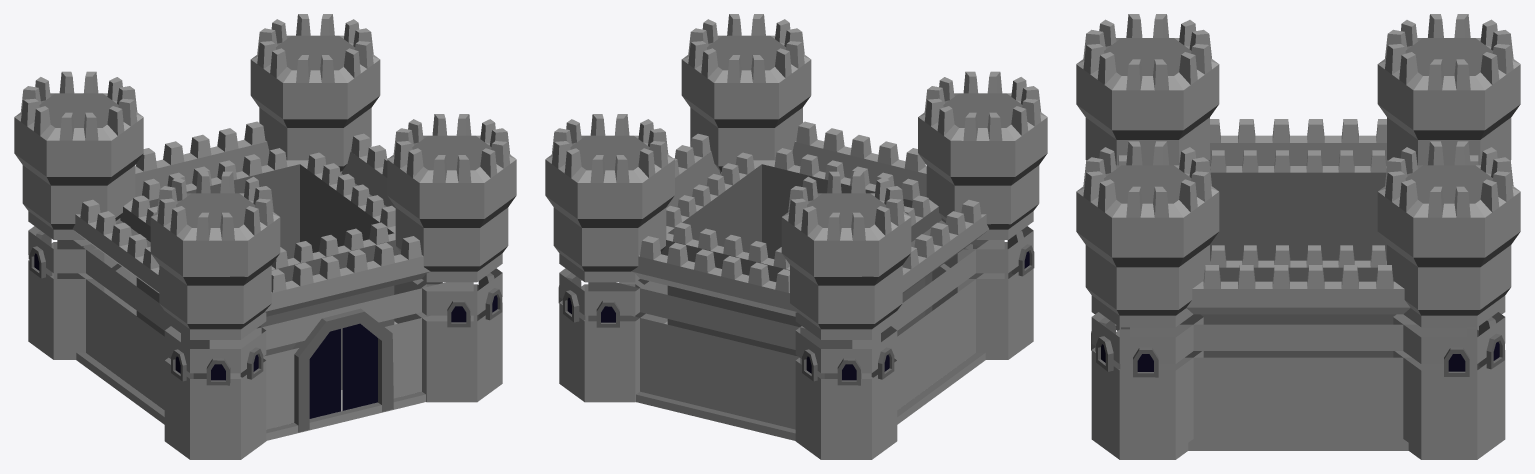
The model's file is Low_Poly_Castle.glb.
3 renders of one model, left to right at view 1: azimuth 30°, elevation 25°; view 2: azimuth 150°, elevation 25°; view 3: azimuth 270°, elevation 25°, orthographic. The views are drawn at different scales.
Parts seen in each view (by area): view 1: main_mat_grey01_0, tower01_mat_grey01_0, tower02_mat_grey01_0, tower04_mat_grey01_0, main_mat_grey03_0, tower03_mat_grey01_0, main_mat_grey02_0, main_mat_black_0, tower01_mat_grey03_0, tower02_mat_grey03_0, Cylinder.002_mat_grey03_0, tower04_mat_grey03_0 (+4 smaller); view 2: main_mat_grey01_0, tower04_mat_grey01_0, tower03_mat_grey01_0, tower01_mat_grey01_0, main_mat_grey03_0, tower02_mat_grey01_0, main_mat_grey02_0, tower04_mat_grey03_0, tower03_mat_grey03_0, tower01_mat_grey03_0, tower04_mat_grey02_0, tower02_mat_grey03_0 (+2 smaller); view 3: main_mat_grey01_0, tower02_mat_grey01_0, tower03_mat_grey01_0, main_mat_grey03_0, tower04_mat_grey01_0, tower01_mat_grey01_0, main_mat_grey02_0, tower02_mat_grey03_0, tower03_mat_grey03_0, tower02_mat_grey02_0, tower01_mat_grey03_0, tower04_mat_grey03_0 (+1 smaller).
Part boxes in pixels (x1,y1,x2,y2): main_mat_grey01_0: [57, 121, 473, 429]; tower01_mat_grey01_0: [150, 171, 280, 452]; tower02_mat_grey01_0: [387, 114, 516, 394]; tower04_mat_grey01_0: [14, 71, 143, 352]; main_mat_grey03_0: [77, 142, 425, 433]; tower03_mat_grey01_0: [250, 14, 380, 173]; main_mat_grey02_0: [57, 240, 473, 440]; main_mat_black_0: [309, 323, 377, 418]; tower01_mat_grey03_0: [151, 193, 279, 385]; tower02_mat_grey03_0: [388, 135, 515, 327]; Cylinder.002_mat_grey03_0: [292, 308, 393, 432]; tower04_mat_grey03_0: [14, 93, 143, 278]; main_mat_grey01_0: [588, 121, 1004, 429]; tower04_mat_grey01_0: [781, 171, 911, 452]; tower03_mat_grey01_0: [545, 114, 674, 394]; tower01_mat_grey01_0: [918, 71, 1047, 352]; main_mat_grey03_0: [636, 142, 984, 433]; tower02_mat_grey01_0: [681, 14, 811, 173]; main_mat_grey02_0: [588, 240, 1004, 440]; tower04_mat_grey03_0: [782, 193, 910, 385]; tower03_mat_grey03_0: [546, 135, 673, 327]; tower01_mat_grey03_0: [918, 93, 1047, 276]; tower04_mat_grey02_0: [795, 326, 897, 459]; tower02_mat_grey03_0: [682, 35, 810, 171]; main_mat_grey01_0: [1118, 119, 1479, 438]; tower02_mat_grey01_0: [1076, 141, 1219, 451]; tower03_mat_grey01_0: [1377, 141, 1520, 451]; main_mat_grey03_0: [1189, 143, 1476, 442]; tower04_mat_grey01_0: [1377, 14, 1520, 165]; tower01_mat_grey01_0: [1076, 14, 1219, 165]; main_mat_grey02_0: [1130, 324, 1466, 450]; tower02_mat_grey03_0: [1077, 165, 1218, 377]; tower03_mat_grey03_0: [1378, 165, 1519, 376]; tower02_mat_grey02_0: [1091, 312, 1203, 459]; tower01_mat_grey03_0: [1076, 38, 1218, 160]; tower04_mat_grey03_0: [1378, 38, 1520, 160].
Bounding box in the file's own units: 653 × 462 × 682.
